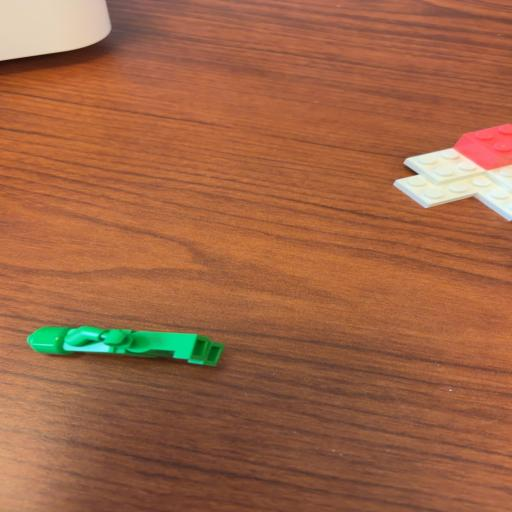UnoQ-minifig-detector: (28, 326, 224, 366)
